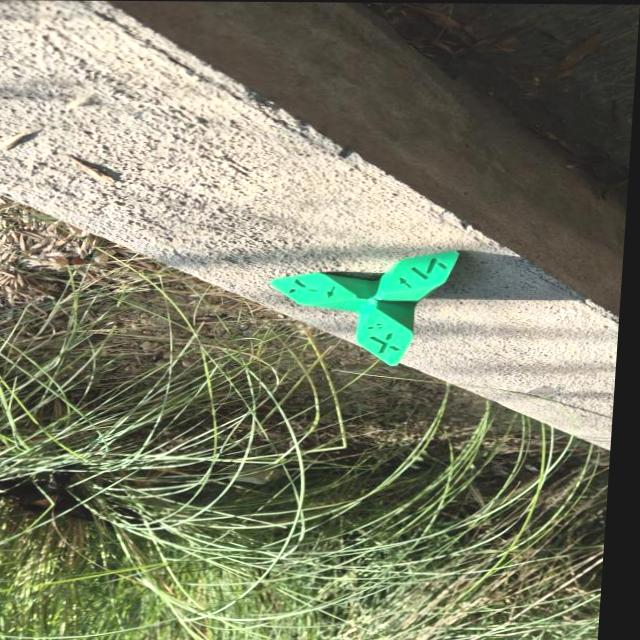eje: (262, 247, 462, 368)
